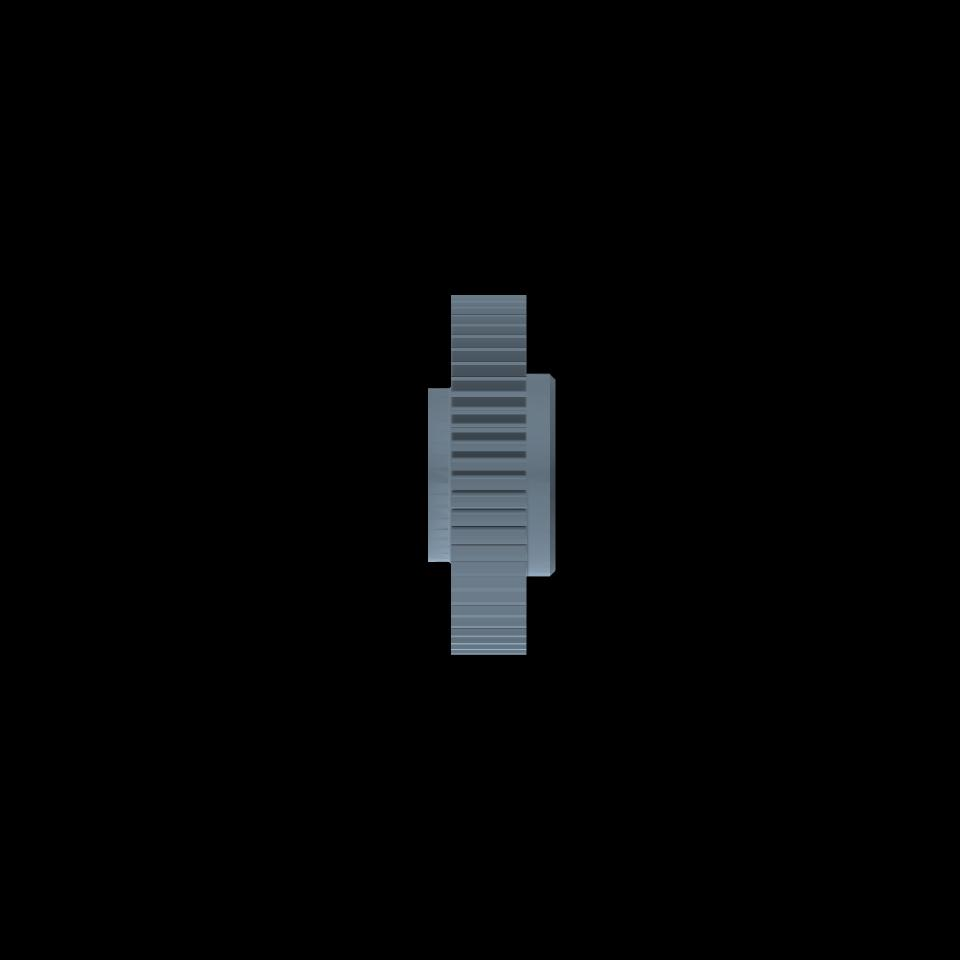Straight: (451, 293, 525, 653)
